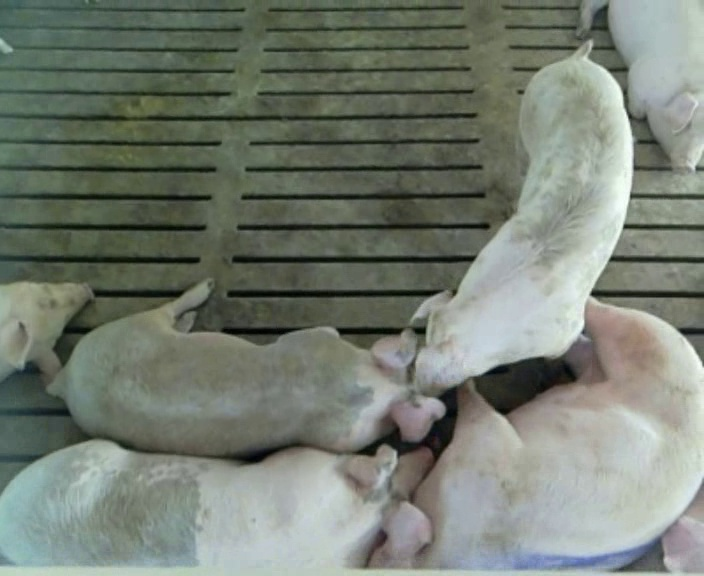pig: (370, 299, 703, 566), (413, 41, 632, 391), (48, 279, 444, 455)
